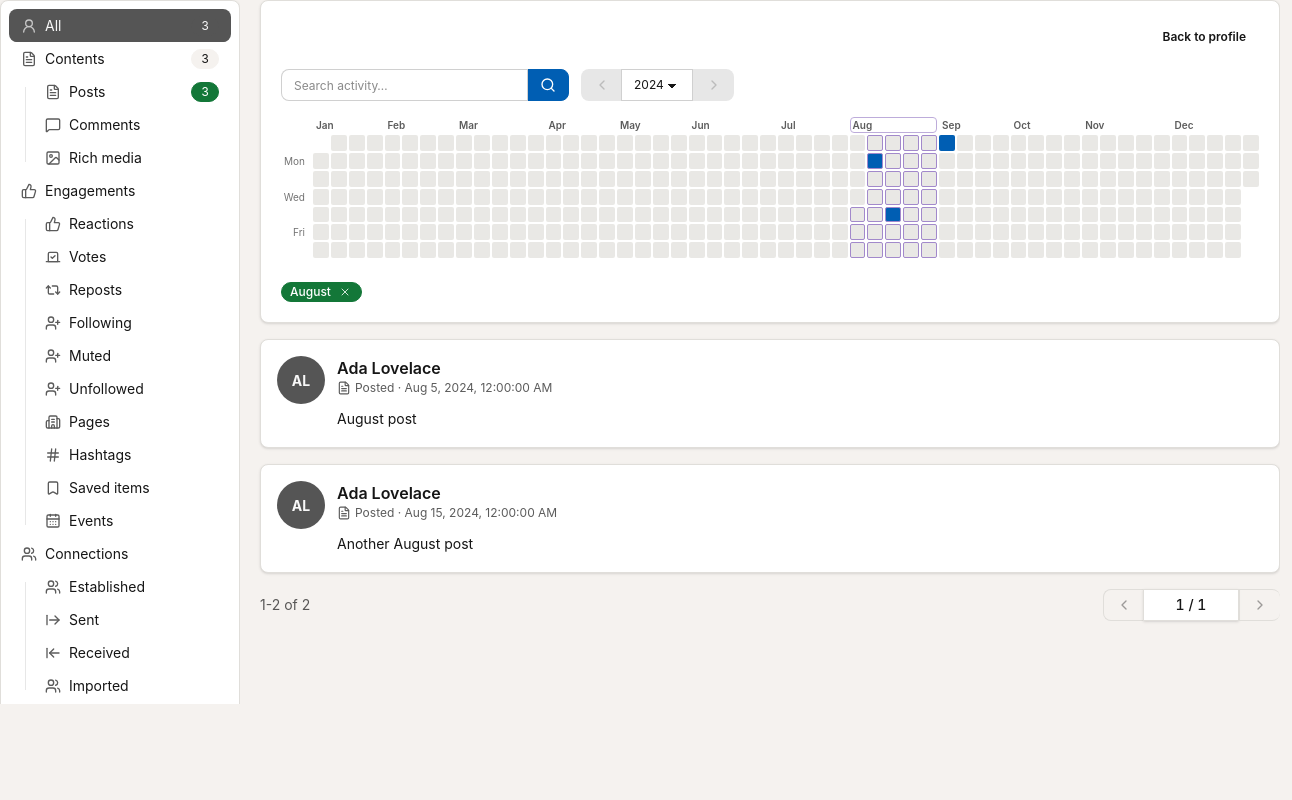
Test: ActivityPage › shows a removable month badge below the mosaic
Expected: the text "August" is shown, [290,284,331,300]
Expected: the text "September post" is not shown
Step 1. Click the button named "Clear August filter" → (345, 292), box [337,284,353,300]
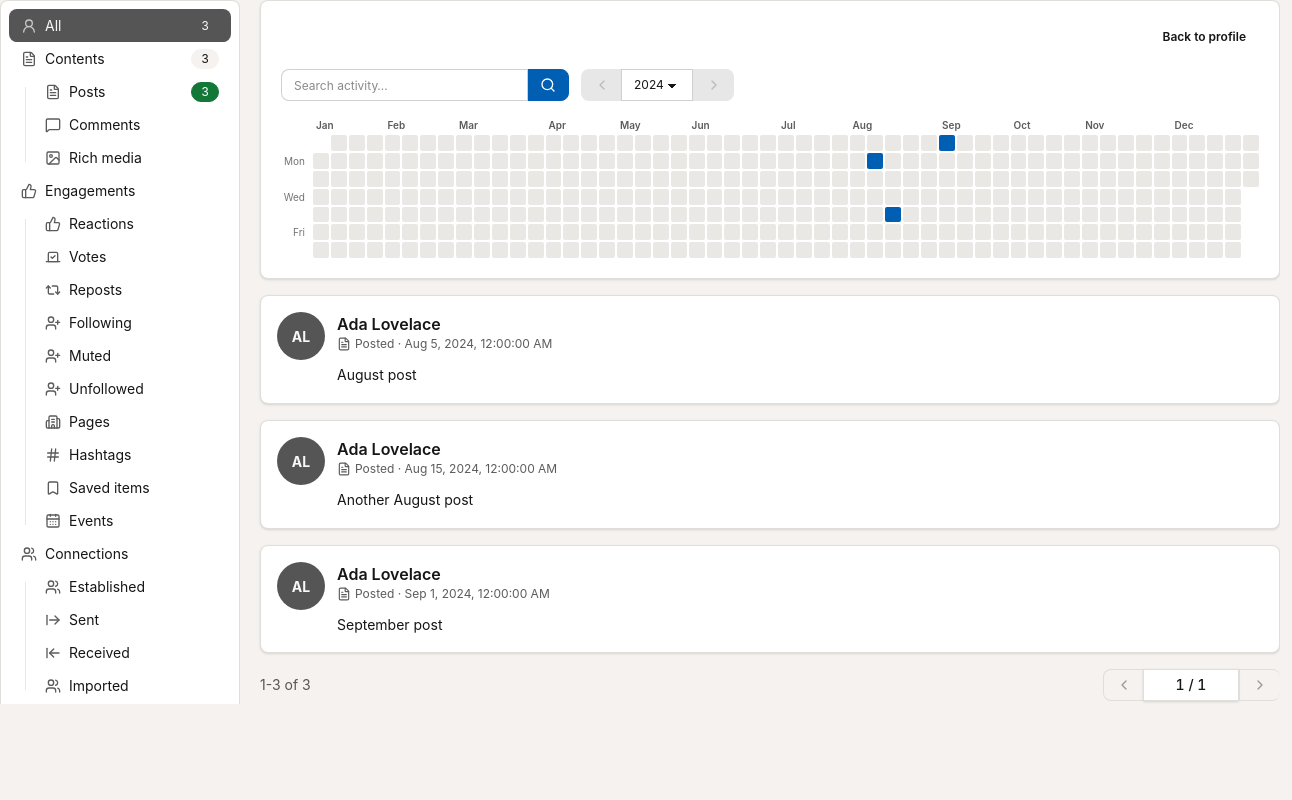
Result: the text "September post" is shown at [337,616,442,633]
